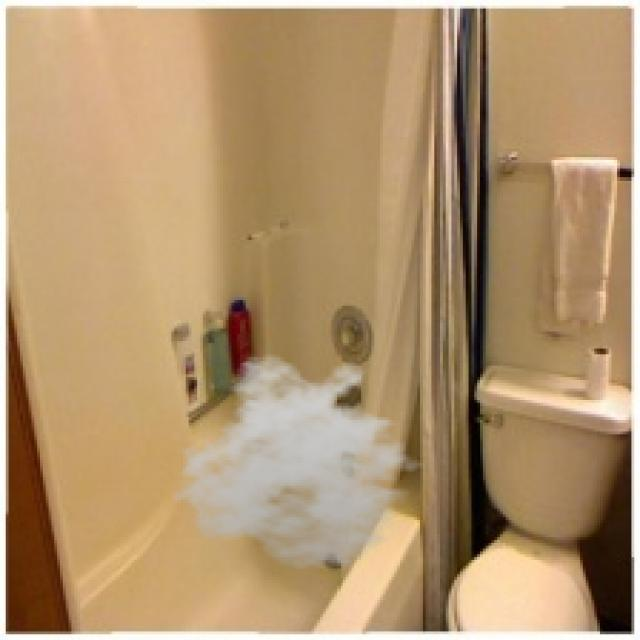Smoke: (168, 352, 440, 572)
